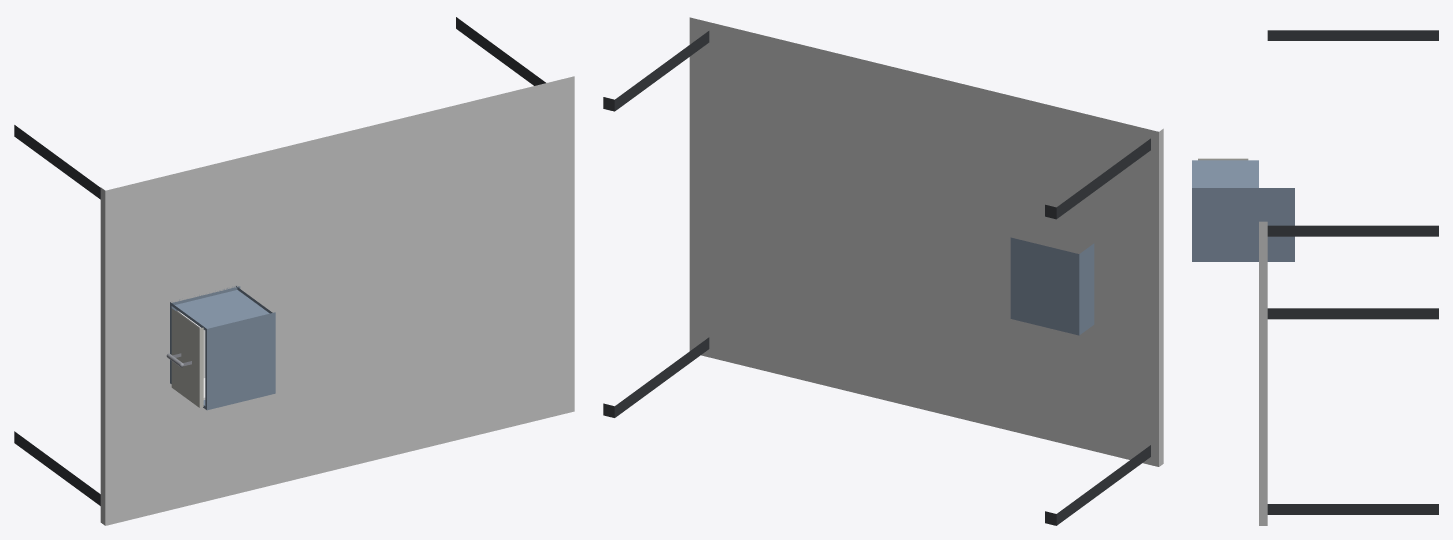
The picture shows the model from 3 angles, left to right: view 1: azimuth 30°, elevation 25°; view 2: azimuth 150°, elevation 25°; view 3: azimuth 270°, elevation 25°; orthographic projection. The views are drawn at different scales.
Parts seen in each view (by area): view 1: s0, s1, s2; view 2: s0, s1; view 3: s0, s1.
Part boxes in pixels (x1,y1,x2,y2): s0: [14, 17, 574, 525]; s1: [170, 285, 275, 410]; s2: [166, 308, 205, 407]; s0: [603, 17, 1163, 525]; s1: [1010, 237, 1094, 335]; s0: [1259, 30, 1438, 525]; s1: [1192, 160, 1294, 261].
Size of the model in its own units: 2.05 by 1.4 by 1.03.
